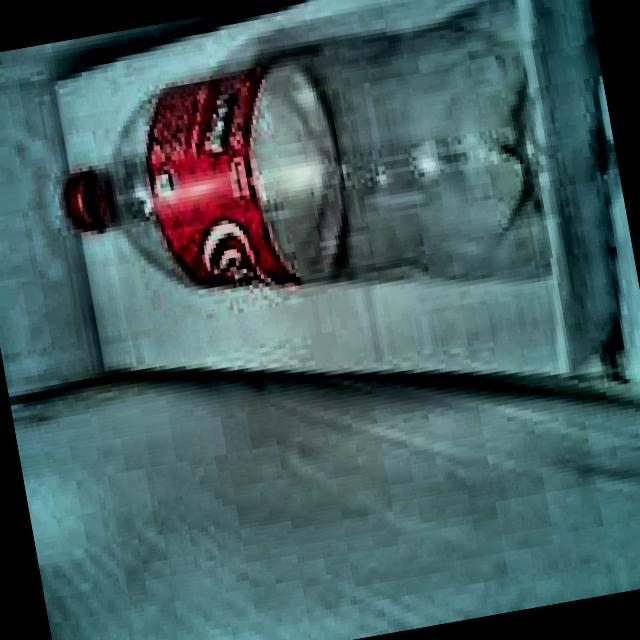plastic bottle: (67, 0, 552, 284)
